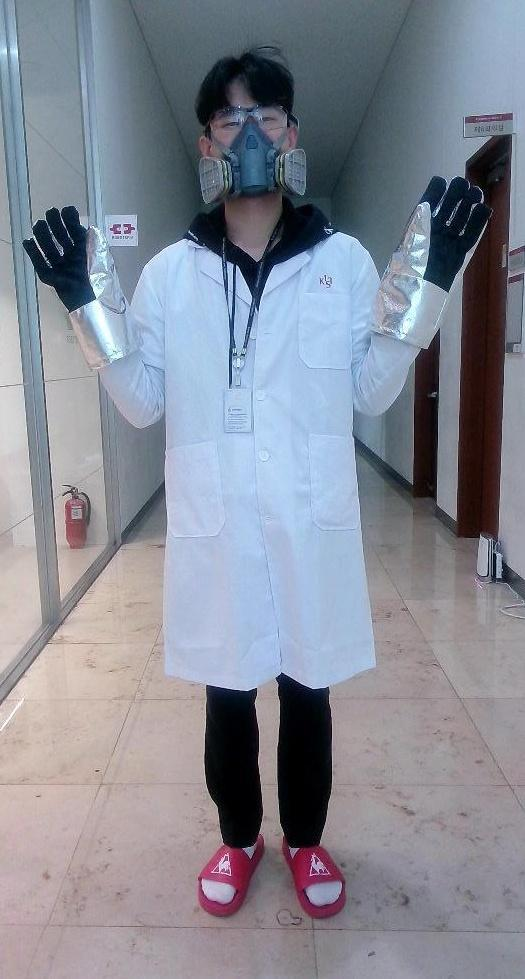lab_coat: (153, 246, 372, 679)
